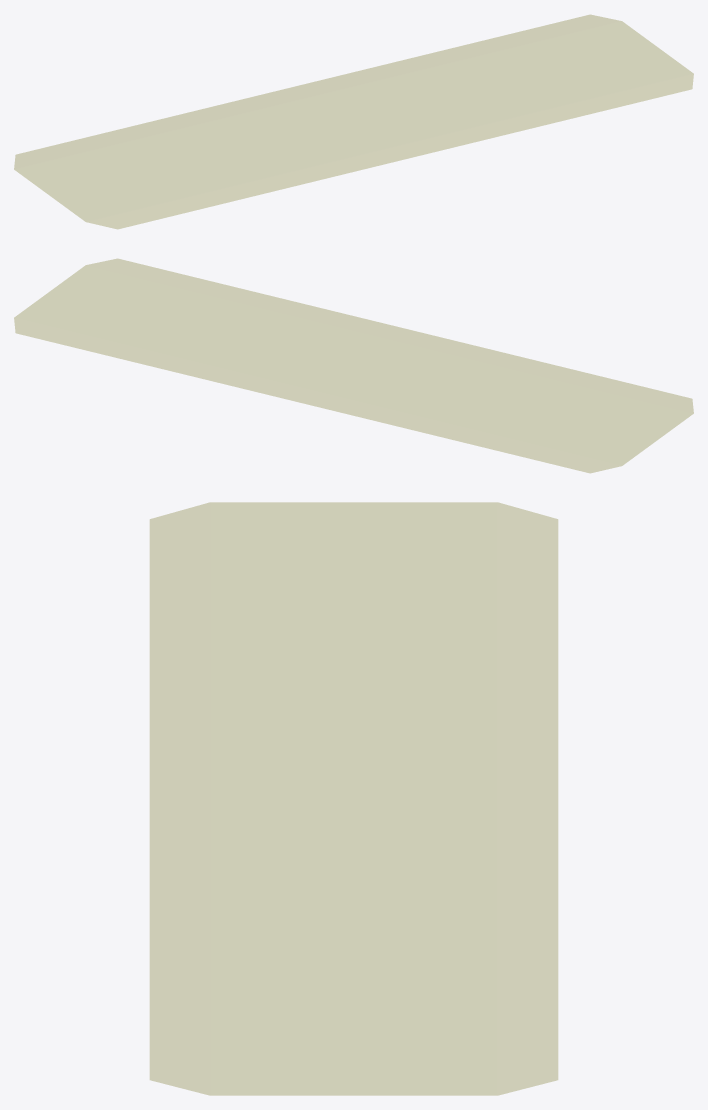
The model's file is 식탁커버.fbx.
3 views of the same model, one above another, from view 1: azimuth 30°, elevation 25°; view 2: azimuth 150°, elevation 25°; view 3: azimuth 270°, elevation 25° (orthographic). The views are drawn at different scales.
Parts seen in each view (by area): view 1: Cube.029; view 2: Cube.029; view 3: Cube.029.
Boxes of the visible parts, x1,y1,x2,y2 form: Cube.029: (14, 14, 693, 229); Cube.029: (14, 258, 693, 473); Cube.029: (149, 502, 558, 1095).
Size of the model in its own units: 2642 by 1.5 by 769.
